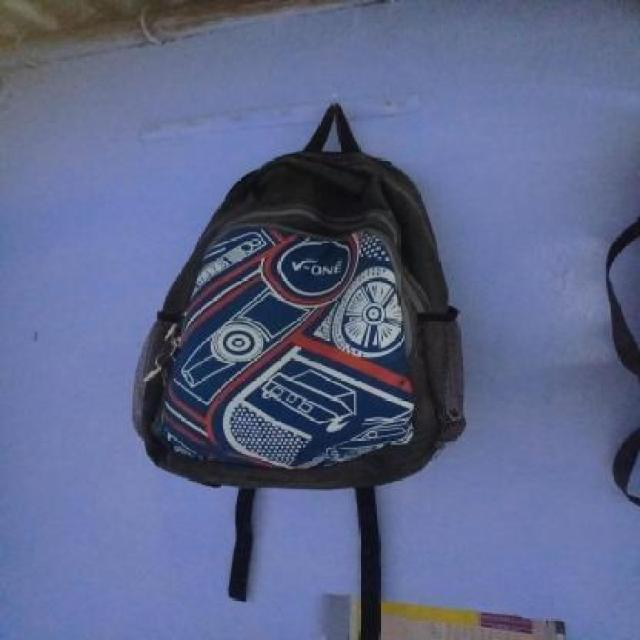backpack: (125, 98, 472, 496)
